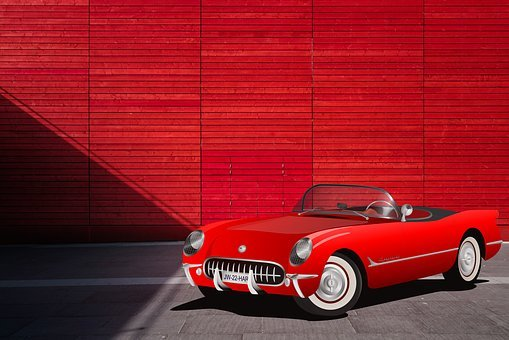car: (183, 175, 508, 316)
